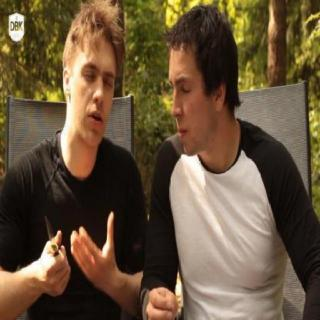knife: (38, 212, 70, 280)
